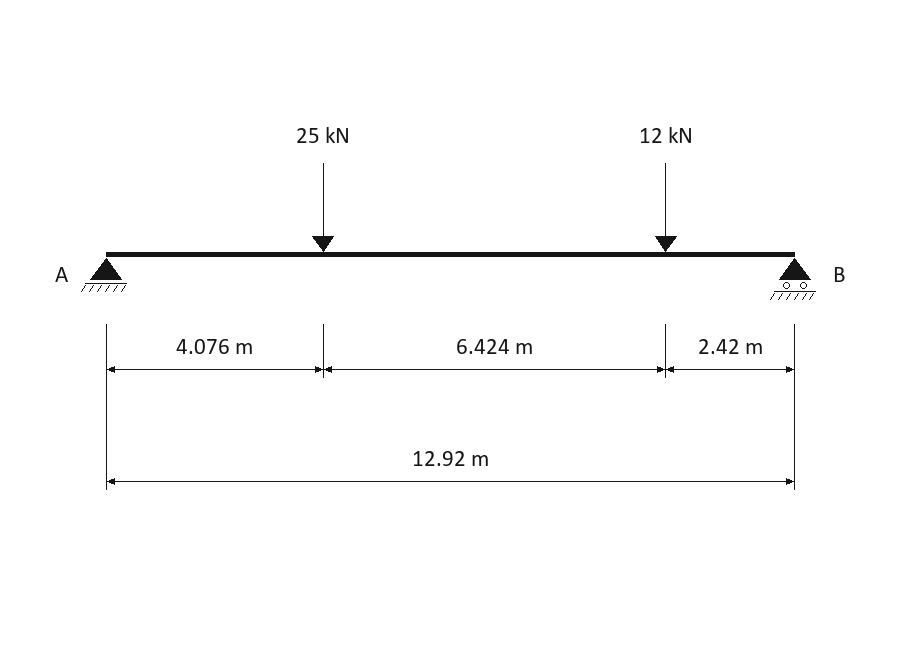pin_support: (81, 258, 127, 292)
point_load: (312, 163, 334, 252), (655, 163, 677, 252)
roller_support: (770, 258, 816, 300)
